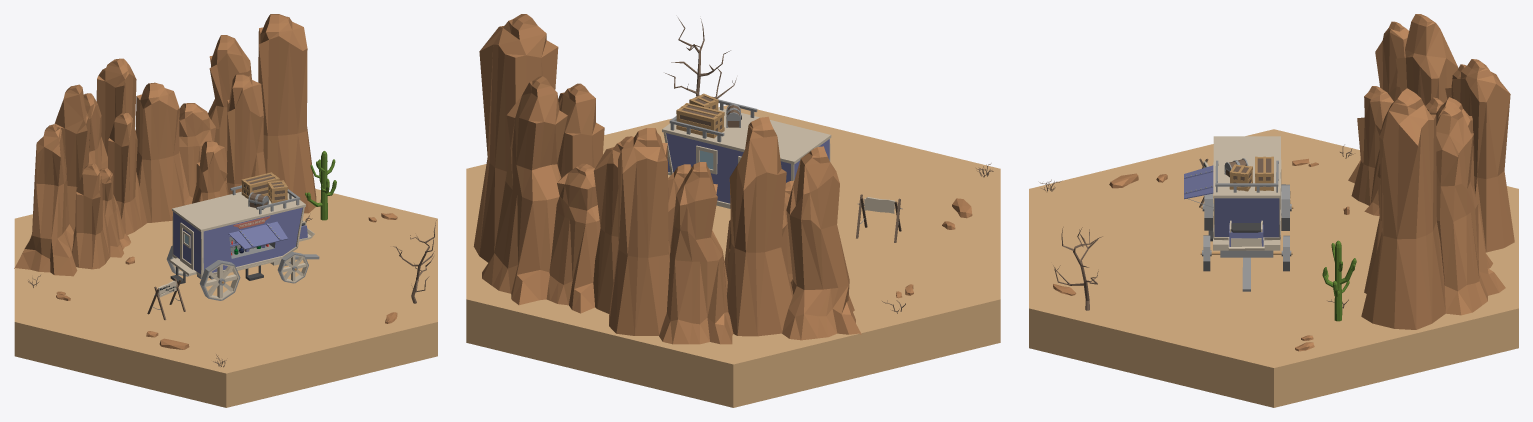
The model's file is Tile_21.fbx.
3 renders of one model, left to right at view 1: azimuth 30°, elevation 25°; view 2: azimuth 150°, elevation 25°; view 3: azimuth 270°, elevation 25°, orthographic. The views are drawn at different scales.
Parts seen in each view (by area): view 1: Tile_21_Base, Tile_21, Tile_21_Medicine_Caravan, Tile_21_Cactus, Tile_21_Sign_Medicine_Caravan, Tile_21_Tree; view 2: Tile_21, Tile_21_Base, Tile_21_Medicine_Caravan, Tile_21_Sign_Medicine_Caravan, Tile_21_Tree; view 3: Tile_21_Base, Tile_21, Tile_21_Medicine_Caravan, Tile_21_Cactus, Tile_21_Tree.
Boxes of the visible parts, bbox=[...] form: Tile_21_Base: bbox=[14, 189, 437, 407]; Tile_21: bbox=[14, 14, 397, 367]; Tile_21_Medicine_Caravan: bbox=[166, 185, 319, 300]; Tile_21_Cactus: bbox=[305, 151, 336, 220]; Tile_21_Sign_Medicine_Caravan: bbox=[147, 278, 185, 320]; Tile_21_Tree: bbox=[393, 220, 436, 303]; Tile_21: bbox=[473, 14, 993, 344]; Tile_21_Base: bbox=[466, 105, 1000, 407]; Tile_21_Medicine_Caravan: bbox=[662, 99, 831, 208]; Tile_21_Sign_Medicine_Caravan: bbox=[856, 194, 902, 242]; Tile_21_Tree: bbox=[665, 18, 736, 98]; Tile_21_Base: bbox=[1029, 129, 1518, 407]; Tile_21: bbox=[1039, 14, 1514, 351]; Tile_21_Medicine_Caravan: bbox=[1184, 136, 1293, 291]; Tile_21_Cactus: bbox=[1322, 240, 1356, 321]; Tile_21_Tree: bbox=[1053, 227, 1102, 310].
Size of the model in its own units: 2318 by 2007 by 1166.
